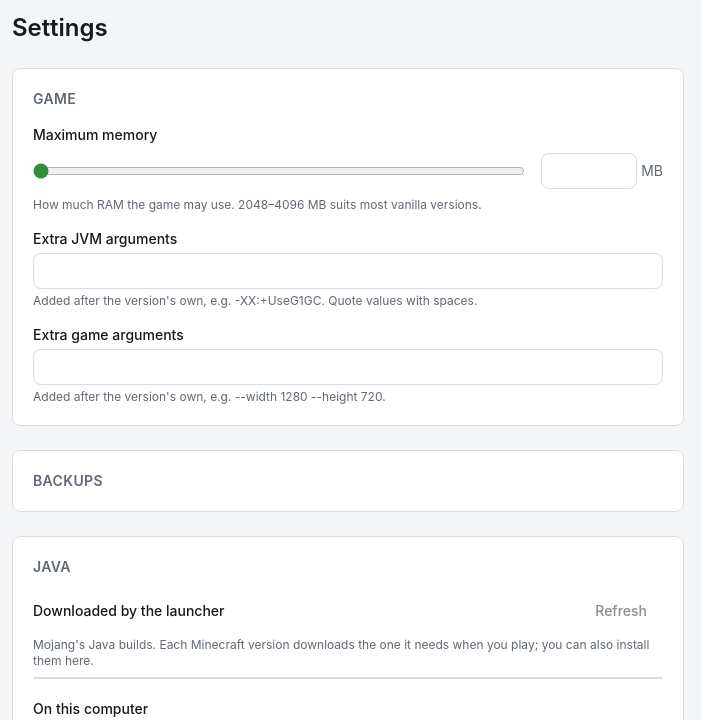
Test: SettingsPage › saves extra arguments as a list, and refuses an unclosed quote
Type "-XX:+UseG1GC \"-Dname=a b\"" into the field labelled "Extra JVM arguments" at x=348, y=271, box x1=33 y1=253 x2=663 y2=289
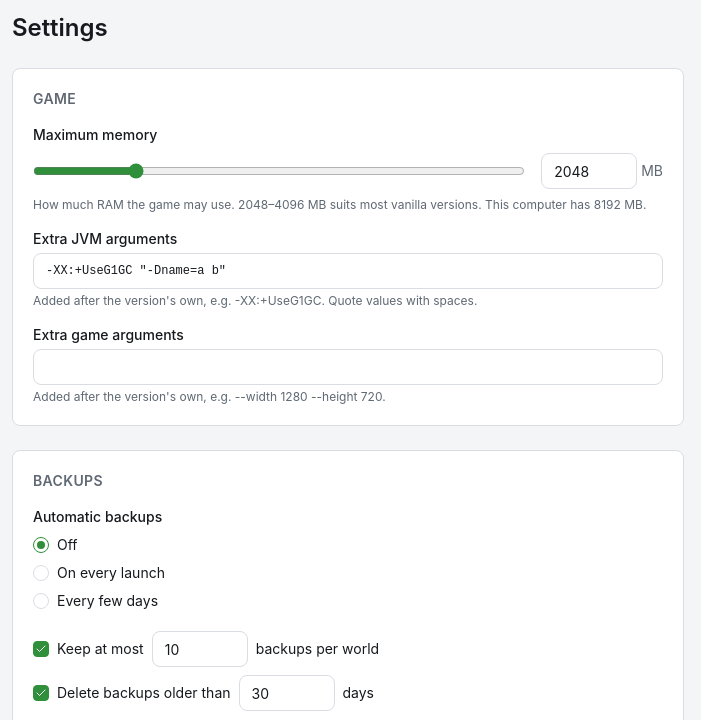
Type "--title \"open" into the field labelled "Extra game arguments" at x=348, y=367, box x1=33 y1=349 x2=663 y2=385
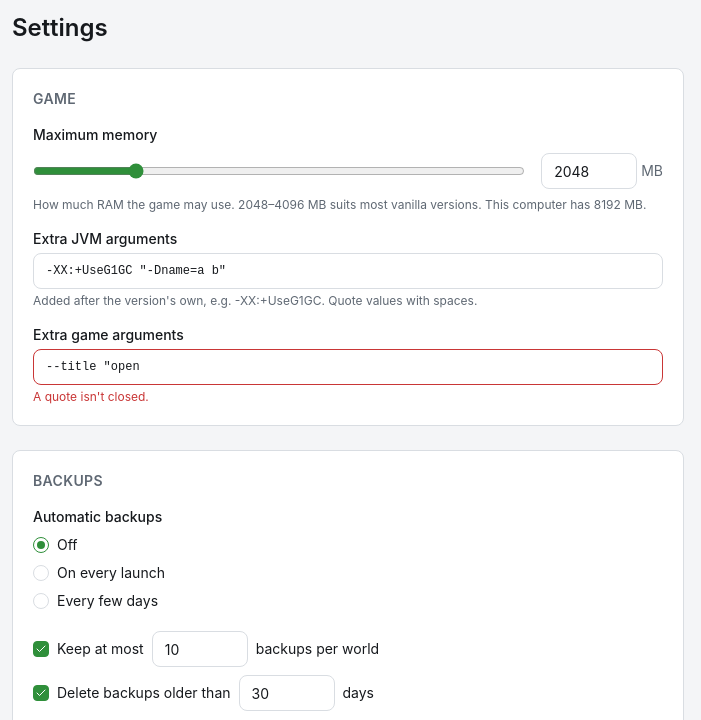
Expected: the text "A quote isn't closed." is shown, x1=33 y1=389 x2=149 y2=404
Replace the text in the field labelled "Extra JVM arguments" with "-Xmx8G" at x=348, y=271, box x1=33 y1=253 x2=663 y2=289
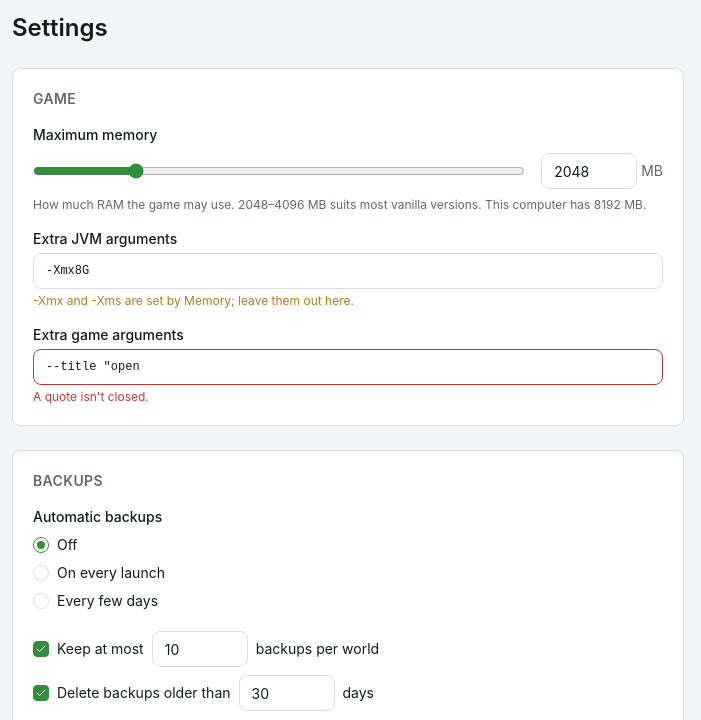
Expected: the text "-Xmx and -Xms are set by Memory; leave them out here." is shown, x1=33 y1=293 x2=354 y2=308
